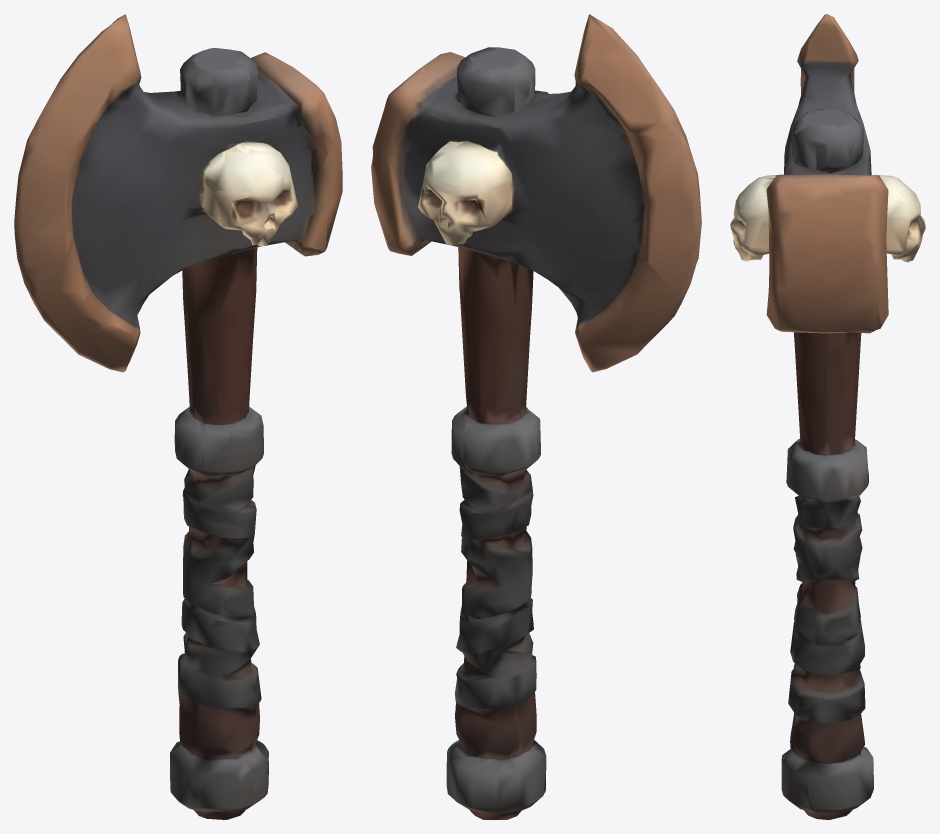
File: BoneGuard_Axe-BDHnp3Ac.glb
3 renders of one model, left to right at view 1: azimuth 30°, elevation 25°; view 2: azimuth 150°, elevation 25°; view 3: azimuth 270°, elevation 25°, orthographic. The views are drawn at different scales.
Parts seen in each view (by area): view 1: tripo_node_1b439c17-bb0a-4c6d-94b1-5a3ce87e3481; view 2: tripo_node_1b439c17-bb0a-4c6d-94b1-5a3ce87e3481; view 3: tripo_node_1b439c17-bb0a-4c6d-94b1-5a3ce87e3481.
Boxes of the visible parts, box(x1,y1,x2,y2) form: tripo_node_1b439c17-bb0a-4c6d-94b1-5a3ce87e3481: box(14, 14, 342, 819); tripo_node_1b439c17-bb0a-4c6d-94b1-5a3ce87e3481: box(371, 14, 701, 819); tripo_node_1b439c17-bb0a-4c6d-94b1-5a3ce87e3481: box(730, 14, 925, 819).
Size of the model in its own units: 0.4863 by 1.25 by 0.2932.
1 material, 1 textured.
